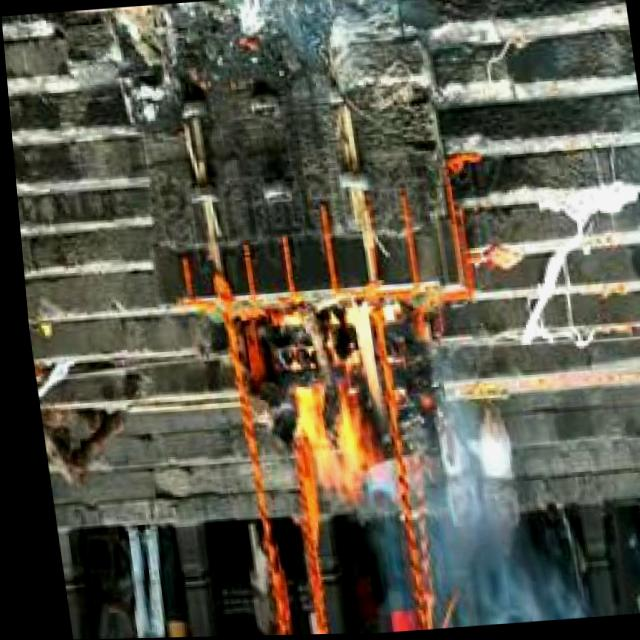helmet: (275, 298, 392, 520)
